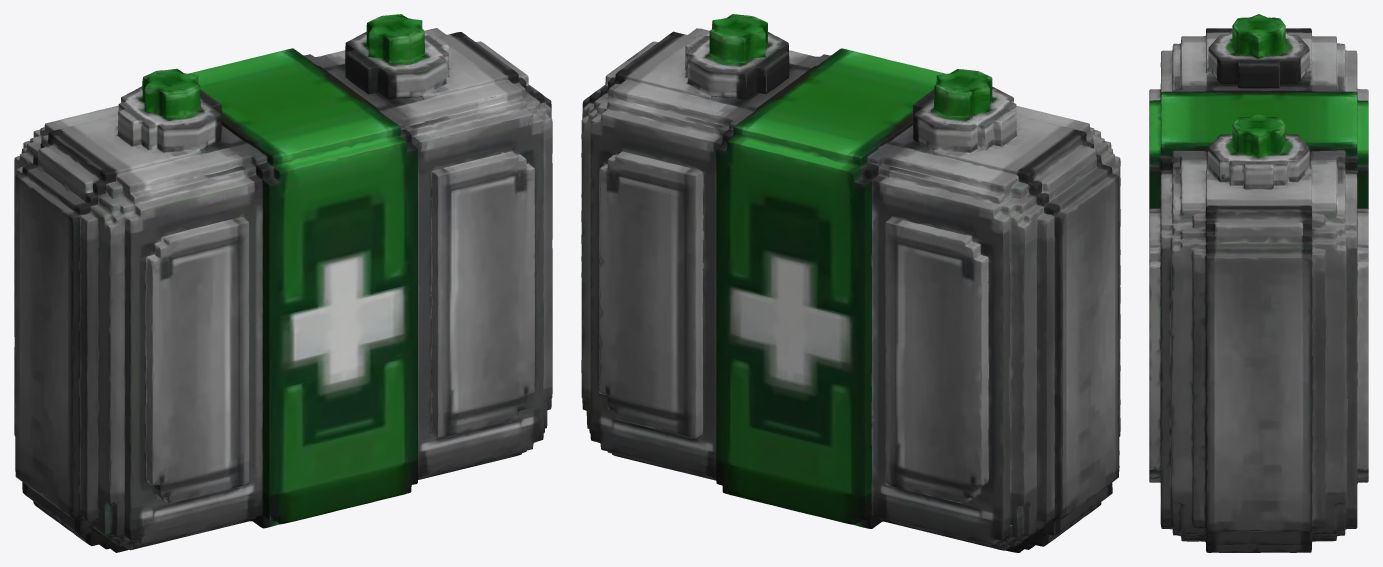
File: MEDIA0_2026-08-10T235320.365.glb
The picture shows the model from 3 angles, left to right: view 1: azimuth 30°, elevation 25°; view 2: azimuth 150°, elevation 25°; view 3: azimuth 270°, elevation 25°; orthographic projection. The views are drawn at different scales.
Parts seen in each view (by area): view 1: world; view 2: world; view 3: world.
Boxes of the visible parts, bbox=[...] form: world: bbox=[14, 14, 552, 552]; world: bbox=[581, 14, 1120, 552]; world: bbox=[1149, 14, 1368, 552].
Bounding box in the file's own units: 1 × 0.8628 × 0.4388.
Materials: 1 (1 with a texture image).
